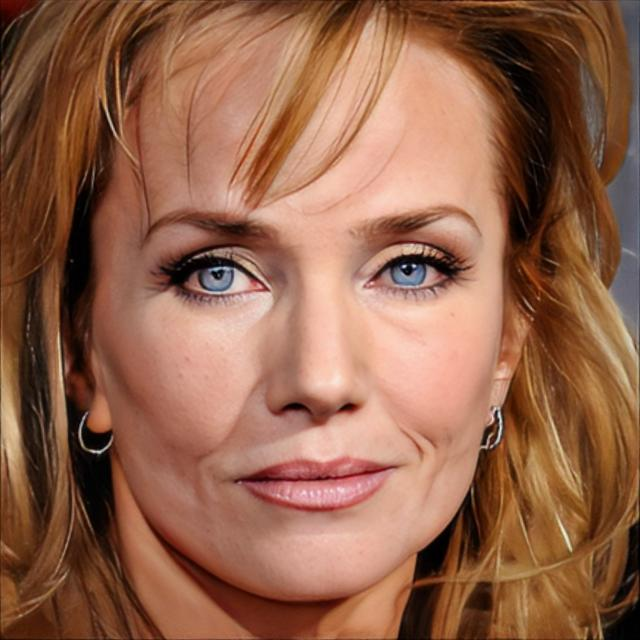content: (92, 0, 511, 605)
